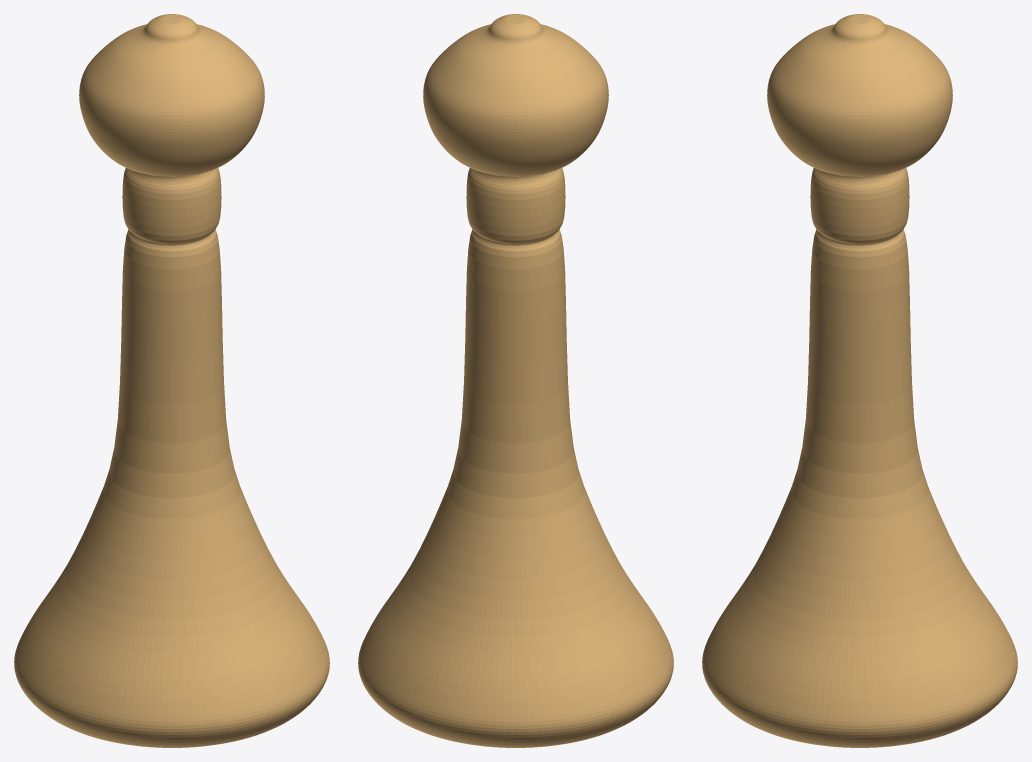
File: Bishop.fbx
3 renders of one model, left to right at view 1: azimuth 30°, elevation 25°; view 2: azimuth 150°, elevation 25°; view 3: azimuth 270°, elevation 25°, orthographic.
Parts seen in each view (by area): view 1: Bishop; view 2: Bishop; view 3: Bishop.
Boxes of the visible parts, x1,y1,x2,y2 form: Bishop: (14, 14, 329, 747); Bishop: (358, 14, 673, 747); Bishop: (702, 14, 1017, 747).
Size of the model in its own units: 173 by 417 by 173.
